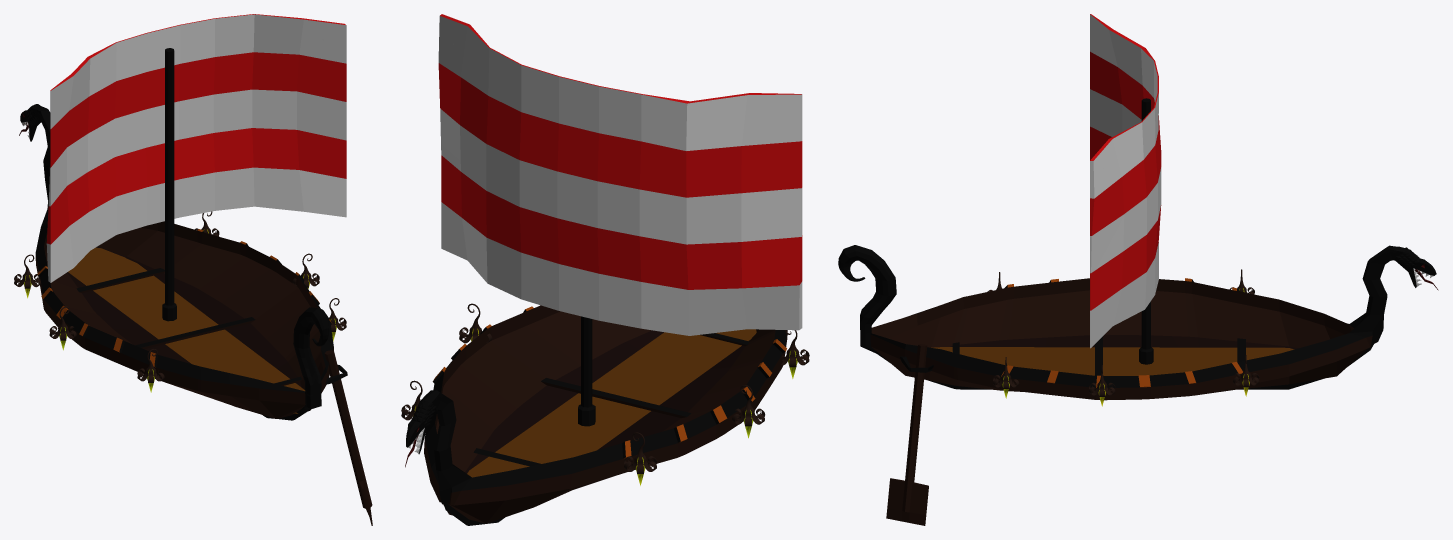
The model's file is ship_and_torches.obj.
3 renders of one model, left to right at view 1: azimuth 30°, elevation 25°; view 2: azimuth 150°, elevation 25°; view 3: azimuth 270°, elevation 25°, orthographic. The views are drawn at different scales.
Visible parts, largest first — view 1: ship_Cube, Plane.001_Plane.003, Hanging_lamp, Hanging_lamp.001, Hanging_lamp.003; view 2: ship_Cube, Plane.001_Plane.003, Hanging_lamp, Hanging_lamp.001, Hanging_lamp.003; view 3: ship_Cube, Plane.001_Plane.003.
Boxes of the visible parts, bbox=[...] form: ship_Cube: bbox=[19, 14, 372, 525]; Plane.001_Plane.003: bbox=[68, 247, 305, 413]; Hanging_lamp: bbox=[14, 254, 40, 298]; Hanging_lamp.001: bbox=[49, 306, 76, 350]; Hanging_lamp.003: bbox=[137, 349, 164, 392]; ship_Cube: bbox=[405, 14, 802, 525]; Plane.001_Plane.003: bbox=[467, 329, 756, 477]; Hanging_lamp: bbox=[624, 432, 657, 485]; Hanging_lamp.001: bbox=[732, 385, 765, 438]; Hanging_lamp.003: bbox=[781, 330, 809, 378]; ship_Cube: bbox=[838, 14, 1438, 525]; Plane.001_Plane.003: bbox=[931, 347, 1294, 375].
Size of the model in its own units: 17.06 by 22.65 by 30.63.
